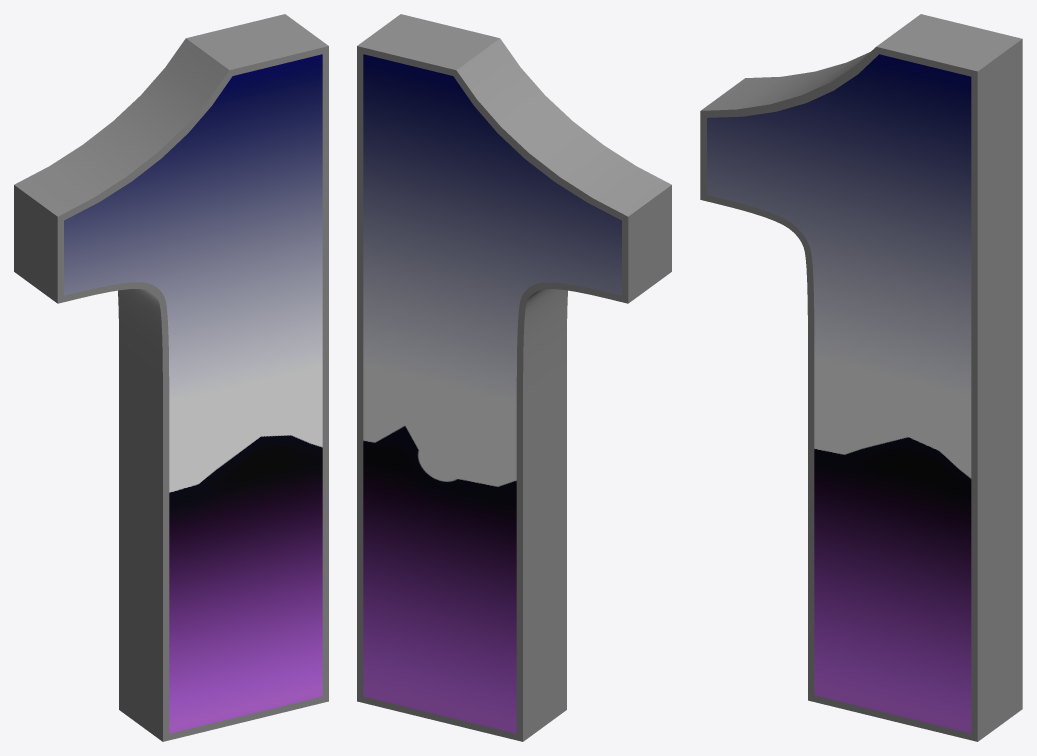
3 views of the same model, side by side, from view 1: azimuth 30°, elevation 25°; view 2: azimuth 150°, elevation 25°; view 3: azimuth 330°, elevation 25° (orthographic). The views are drawn at different scales.
Visible parts, largest first — view 1: 1, 1_outline; view 2: 1, 1_outline; view 3: 1, 1_outline.
Boxes of the visible parts, x1,y1,x2,y2 form: 1: (64,54,322,733); 1_outline: (14,14,328,741); 1: (363,54,621,733); 1_outline: (357,14,671,741); 1: (707,54,971,733); 1_outline: (700,14,1022,741).
Bounding box in the file's own units: 42.95 × 99.2 × 12.
Materials: 2 (1 with a texture image).
